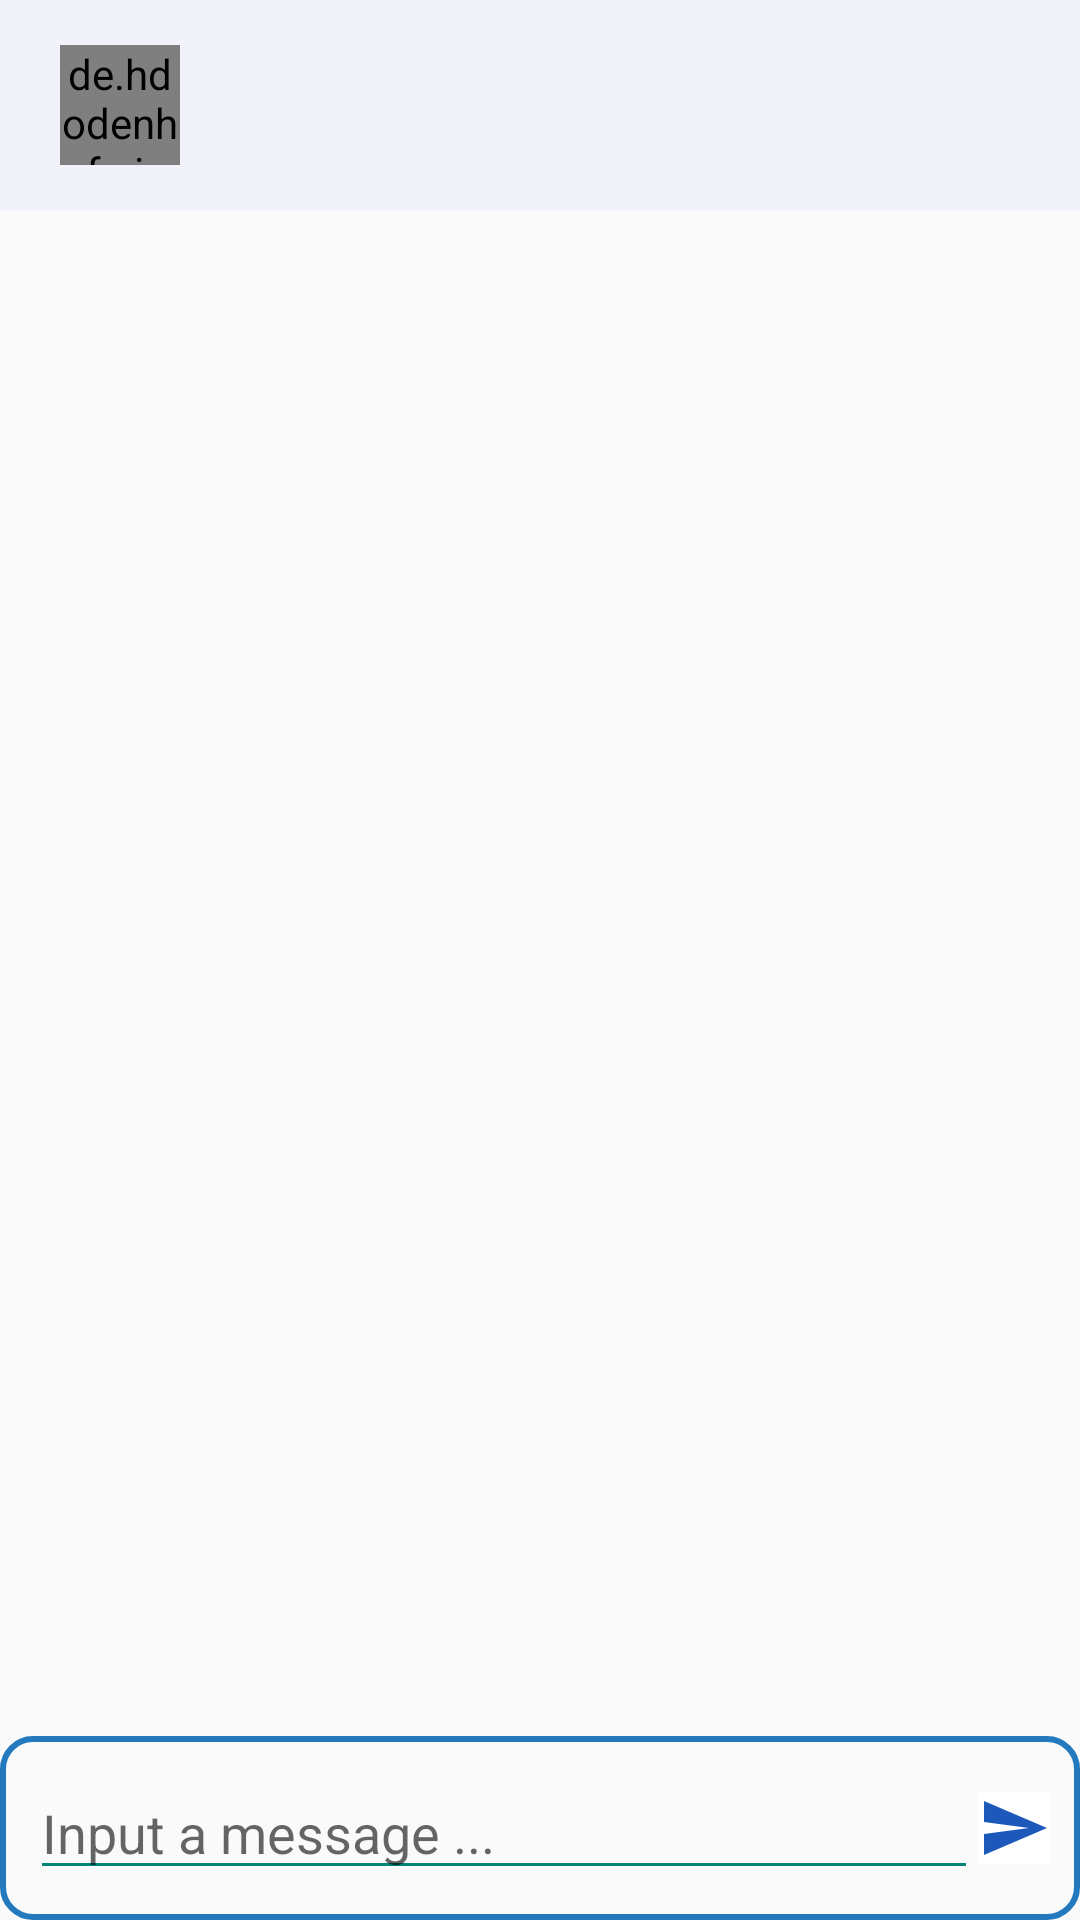

Screen size 1080*1920. Icon name, then its center in pixels as point (x, y):
send: point (1015, 1828)
